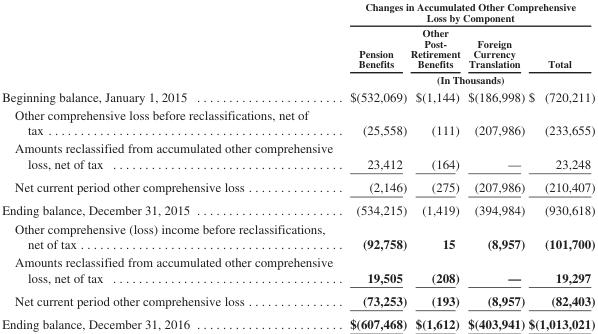table: (1, 0, 594, 330)
table column: (1, 0, 340, 330), (526, 0, 594, 330), (340, 0, 407, 330), (463, 0, 526, 330), (407, 0, 463, 330)
table column header: (1, 0, 594, 87)
table row: (1, 24, 594, 71), (1, 139, 594, 175), (1, 252, 594, 288), (1, 105, 594, 139), (1, 219, 594, 252), (1, 0, 594, 24), (1, 175, 594, 198), (1, 288, 594, 311), (1, 198, 594, 219), (1, 311, 594, 330), (1, 87, 594, 105), (1, 71, 594, 87)
table spanning cell: (340, 0, 594, 24), (340, 71, 594, 87)
